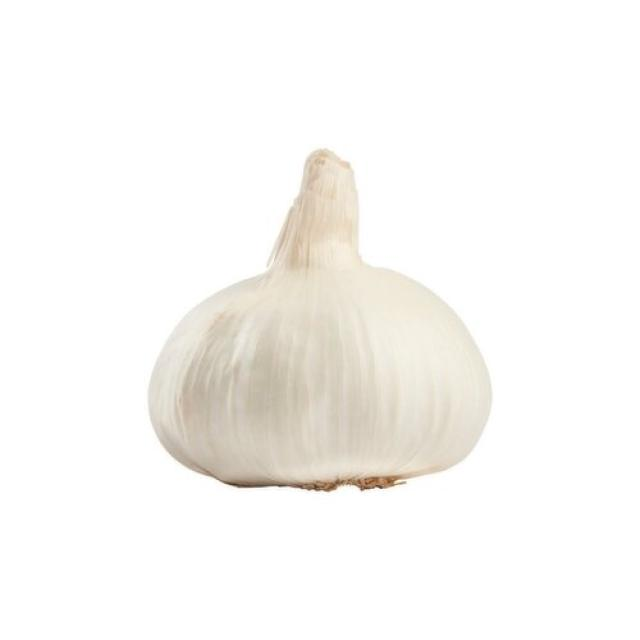garlic: (130, 265, 507, 512)
